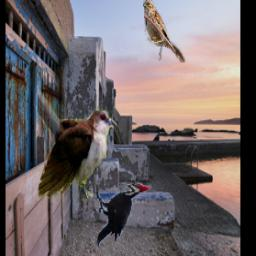Cuckoo: (38, 47, 118, 203)
Sparrow: (143, 0, 185, 62)
Woodpecker: (95, 181, 150, 246)
